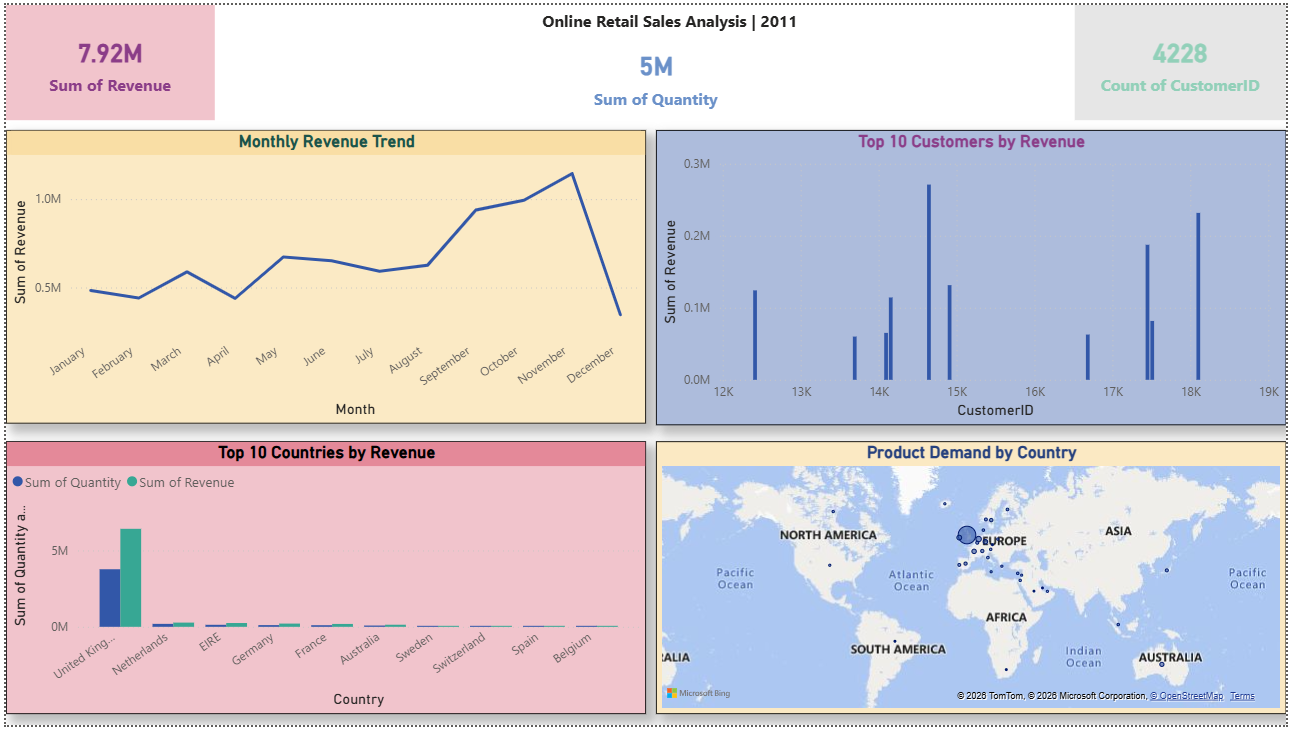

The page's visual inventory and layout, read from the dashboard file:
{"tool":"powerbi","page":{"name":"Page 1Sales Overview","canvas":[1280,720],"ordinal":0},"visuals":[{"type":"card","fields":{"Values":["Sum(Online Retail.Revenue)"]},"box":[0,0,208.8,115],"z":0},{"type":"card","fields":{"Values":["Sum(Online Retail.Quantity)"]},"box":[546.2,27.5,207.5,87.5],"z":1},{"type":"card","fields":{"Values":["Count(Online Retail.CustomerID)"]},"box":[1068.8,0,211.2,115],"z":2},{"type":"lineChart","title":"Monthly Revenue Trend","fields":{"Category":["Online Retail.InvoiceDate.Variation.Date Hierarchy.Month"],"Y":["Sum(Online Retail.Revenue)"]},"box":[0,125,640,293.8],"z":3},{"type":"clusteredColumnChart","title":"Top 10 Countries by Revenue","fields":{"Category":["Online Retail.Country"],"Y":["Sum(Online Retail.Quantity)","Sum(Online Retail.Revenue)"]},"box":[0,436.2,640,272.5],"z":4},{"type":"clusteredColumnChart","title":"Top 10 Customers by Revenue","fields":{"Category":["Online Retail.CustomerID"],"Y":["Sum(Online Retail.Revenue)"]},"box":[650,125,630,295],"z":5},{"type":"map","title":"Product Demand by Country","fields":{"Category":["Online Retail.Country"],"Size":["Sum(Online Retail.Quantity)"]},"box":[650,436.2,630,272.5],"z":6},{"type":"textbox","box":[531.2,0,302.5,37.5],"z":7}]}

Visuals, with their boxes in screenshot pixels (x1, y1, x2, y2), scaled from the page's 1280x720 canvas onto the 1293x731 screenshot:
card - Sum(Online Retail.Revenue): [left=0, top=0, right=211, bottom=117]
card - Sum(Online Retail.Quantity): [left=552, top=28, right=761, bottom=117]
card - Count(Online Retail.CustomerID): [left=1080, top=0, right=1292, bottom=117]
"Monthly Revenue Trend" lineChart: [left=0, top=127, right=646, bottom=425]
"Top 10 Countries by Revenue" clusteredColumnChart: [left=0, top=443, right=646, bottom=720]
"Top 10 Customers by Revenue" clusteredColumnChart: [left=657, top=127, right=1292, bottom=426]
"Product Demand by Country" map: [left=657, top=443, right=1292, bottom=720]
textbox: [left=537, top=0, right=842, bottom=38]
